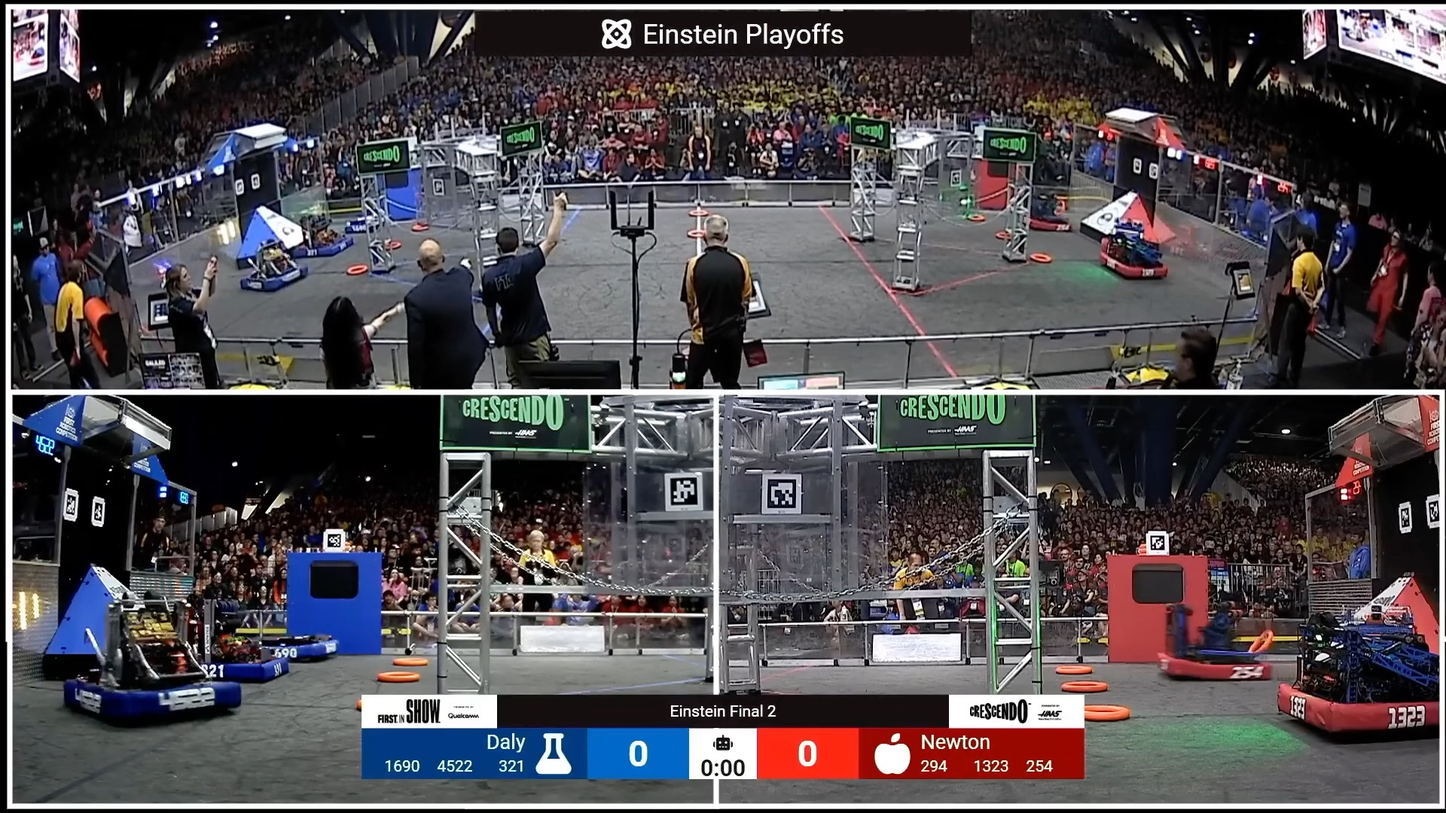bumpers: (1267, 670, 1428, 747), (59, 672, 246, 724), (1158, 649, 1283, 690), (1085, 242, 1185, 285), (201, 650, 303, 685), (236, 263, 318, 294), (261, 639, 347, 666), (281, 234, 361, 260), (1015, 211, 1076, 235), (343, 215, 395, 231)
